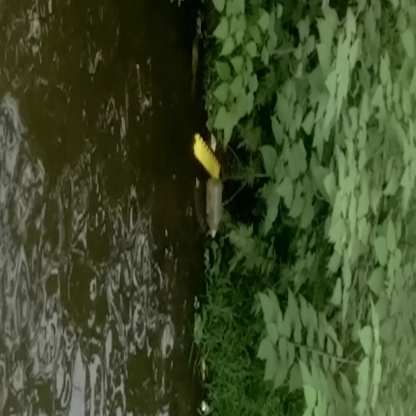bottle: (201, 176, 237, 241)
